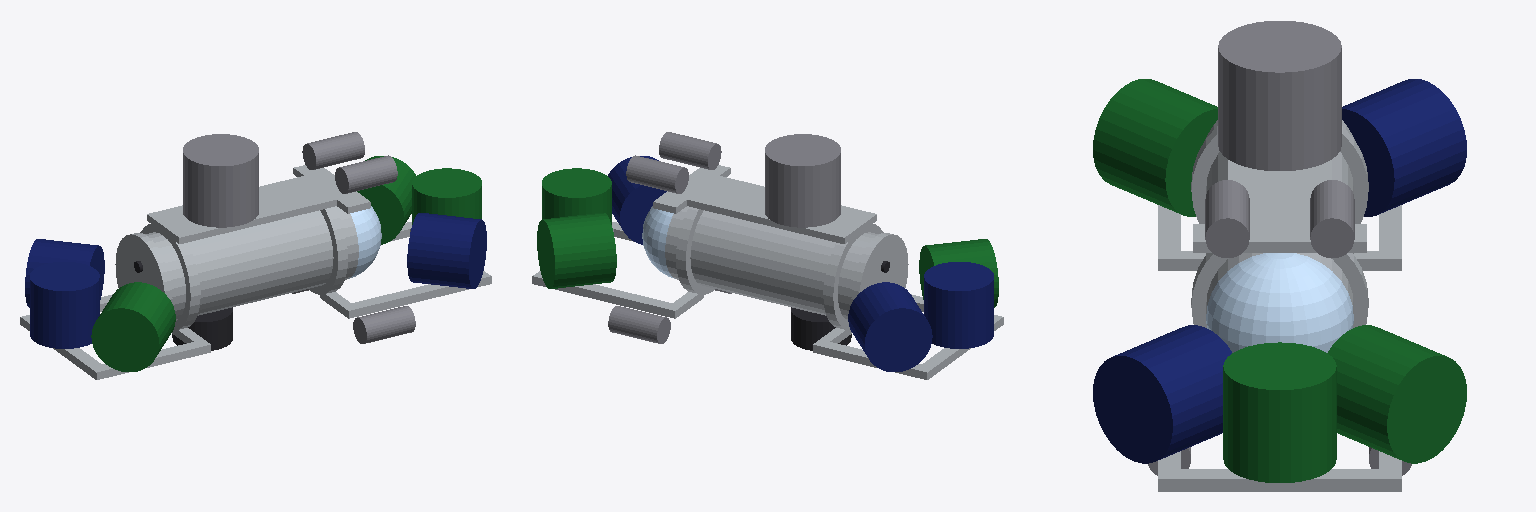
URDF robot description (hauv):
<?xml version="1.0"?>
<!--
  HAUV - LIGHTWEIGHT URDF for RViz2 on low-power hardware (Atom / UP Board).

  NO MESHES AT ALL. Every part is a URDF primitive (box / cylinder / sphere),
  so there are no STLs to load and roughly 3k triangles total instead of the
  2.03 M in hauv.urdf. Decimating the vendor meshes would not have got close -
  the T200 alone is 186k triangles before you copy it six times.

  Dimensions are the real CAD numbers, not eyeballed:
    tube      OD 127, 300 long          dome      R 63.5 hemisphere
    T200      OD 97.3, 88 long          Lumen     OD 38, 78 long
    Subsonus  OD 106, 93.4 tall         DVL head  OD 83.7, 44.3 tall
  So it is dimensionally honest for reach/clearance checks - it just has no
  surface detail.

  LINK AND JOINT NAMES ARE IDENTICAL to hauv.urdf, so this is a drop-in swap:
  the same motor_to_joint_states.py and the same TF consumers work unchanged.

  Frame: X forward, Y port, Z up, origin on the tube axis, centred fore-aft.
  Everything here is in METRES - there is no mesh scale factor to get wrong.

  One improvement over the mesh version: because the geometry is generated
  rather than imported, each thruster joint sits exactly on its duct centre.
  The mesh URDF is up to 4.25 mm off there (it was placed by bounding-box
  centre, and Fusion's box is conservative for rotated bodies).
-->
<robot name="hauv">

  <material name="alu">      <color rgba="0.72 0.74 0.76 1.0"/></material>
  <material name="acrylic">  <color rgba="0.80 0.90 1.00 0.35"/></material>
  <material name="cw_green"> <color rgba="0.13 0.45 0.20 1.0"/></material>
  <material name="ccw_blue"> <color rgba="0.13 0.18 0.45 1.0"/></material>
  <material name="lightblue"><color rgba="0.45 0.70 0.90 1.0"/></material>
  <material name="pcb_green"><color rgba="0.10 0.35 0.15 1.0"/></material>
  <material name="dark">     <color rgba="0.20 0.20 0.22 1.0"/></material>
  <material name="grey">     <color rgba="0.55 0.55 0.58 1.0"/></material>

  <link name="base_link">

    <!-- pressure tube: OD 127, X -172.6 .. 127.4 -->
    <visual><origin xyz="-0.0226 0 0" rpy="0 1.5707963 0"/>
      <geometry><cylinder radius="0.0635" length="0.300"/></geometry>
      <material name="alu"/></visual>

    <!-- aft cap flange OD 137, and the Bar30 boss hanging below it -->
    <visual><origin xyz="-0.1786 0 0" rpy="0 1.5707963 0"/>
      <geometry><cylinder radius="0.0685" length="0.012"/></geometry>
      <material name="alu"/></visual>
    <visual><origin xyz="-0.1795 0 -0.075" rpy="0 0 0"/>
      <geometry><box size="0.013 0.026 0.040"/></geometry>
      <material name="alu"/></visual>

    <!-- forward dome, R 63.5 at X 127.4 (aft half is hidden inside the tube) -->
    <visual><origin xyz="0.1274 0 0" rpy="0 0 0"/>
      <geometry><sphere radius="0.0635"/></geometry>
      <material name="acrylic"/></visual>

    <!-- thruster mounts: collars, rails, cross-pieces, stubs, spine -->
    <visual><origin xyz="0.095 0 0" rpy="0 1.5707963 0"/>
      <geometry><cylinder radius="0.076" length="0.016"/></geometry>
      <material name="alu"/></visual>
    <visual><origin xyz="-0.140 0 0" rpy="0 1.5707963 0"/>
      <geometry><cylinder radius="0.076" length="0.016"/></geometry>
      <material name="alu"/></visual>

    <visual><origin xyz="0.205 0.095 -0.070" rpy="0 0 0"/>
      <geometry><box size="0.220 0.020 0.012"/></geometry><material name="alu"/></visual>
    <visual><origin xyz="0.205 -0.095 -0.070" rpy="0 0 0"/>
      <geometry><box size="0.220 0.020 0.012"/></geometry><material name="alu"/></visual>
    <visual><origin xyz="-0.2275 0.095 -0.070" rpy="0 0 0"/>
      <geometry><box size="0.175 0.020 0.012"/></geometry><material name="alu"/></visual>
    <visual><origin xyz="-0.2275 -0.095 -0.070" rpy="0 0 0"/>
      <geometry><box size="0.175 0.020 0.012"/></geometry><material name="alu"/></visual>

    <visual><origin xyz="0.305 0 -0.070" rpy="0 0 0"/>
      <geometry><box size="0.020 0.210 0.012"/></geometry><material name="alu"/></visual>
    <visual><origin xyz="-0.305 0 -0.070" rpy="0 0 0"/>
      <geometry><box size="0.020 0.210 0.012"/></geometry><material name="alu"/></visual>

    <visual><origin xyz="0.095 0.065 -0.070" rpy="0 0 0"/>
      <geometry><box size="0.016 0.080 0.012"/></geometry><material name="alu"/></visual>
    <visual><origin xyz="0.095 -0.065 -0.070" rpy="0 0 0"/>
      <geometry><box size="0.016 0.080 0.012"/></geometry><material name="alu"/></visual>
    <visual><origin xyz="-0.140 0.065 -0.070" rpy="0 0 0"/>
      <geometry><box size="0.016 0.080 0.012"/></geometry><material name="alu"/></visual>
    <visual><origin xyz="-0.140 -0.065 -0.070" rpy="0 0 0"/>
      <geometry><box size="0.016 0.080 0.012"/></geometry><material name="alu"/></visual>

    <!-- spine (carries the Subsonus) + forward shelf (carries the upper lights) -->
    <visual><origin xyz="-0.0225 0 0.073" rpy="0 0 0"/>
      <geometry><box size="0.251 0.090 0.010"/></geometry><material name="alu"/></visual>
    <visual><origin xyz="0.1215 0 0.073" rpy="0 0 0"/>
      <geometry><box size="0.037 0.150 0.010"/></geometry><material name="alu"/></visual>

    <!-- internals -->
    <visual><origin xyz="-0.0236 0 -0.032" rpy="0 0 0"/>
      <geometry><box size="0.244 0.090 0.004"/></geometry><material name="alu"/></visual>
    <visual><origin xyz="-0.0919 0 -0.0020" rpy="0 0 0"/>
      <geometry><box size="0.1163 0.0858 0.0561"/></geometry><material name="dark"/></visual>
    <visual><origin xyz="0.0125 0 0.0008" rpy="0 0 0"/>
      <geometry><box size="0.085 0.056 0.018"/></geometry><material name="pcb_green"/></visual>
    <visual><origin xyz="0.077 0 0.0193" rpy="0 0 0"/>
      <geometry><box size="0.052 0.028 0.0146"/></geometry><material name="pcb_green"/></visual>
    <visual><origin xyz="-0.050 0 0.0365" rpy="0 0 0"/>
      <geometry><box size="0.180 0.065 0.020"/></geometry><material name="lightblue"/></visual>
    <visual><origin xyz="0.0359 0 -0.019" rpy="0 0 0"/>
      <geometry><box size="0.135 0.065 0.020"/></geometry><material name="lightblue"/></visual>

    <!-- DVL transducer, external, looking down -->
    <visual><origin xyz="-0.085 0 -0.08615" rpy="0 0 0"/>
      <geometry><cylinder radius="0.04185" length="0.0443"/></geometry>
      <material name="dark"/></visual>

    <collision><origin xyz="-0.0226 0 0" rpy="0 1.5707963 0"/>
      <geometry><cylinder radius="0.0635" length="0.300"/></geometry></collision>

    <inertial>
      <origin xyz="-0.02 0 -0.01" rpy="0 0 0"/>
      <mass value="5.531"/>
      <inertia ixx="0.045" ixy="0" ixz="0" iyy="0.180" iyz="0" izz="0.180"/>
    </inertial>
  </link>

  <!-- ===== thrusters: OD 97.3 x 88 duct, continuous about local +X ======
       Cylinder is modelled along the link's local Z and the joint rpy turns
       local Z onto the thrust axis, so the spin axis stays 0 0 1 here.       -->

  <link name="t1_front_left">
    <visual><origin xyz="0 0 0" rpy="0 0 0"/>
      <geometry><cylinder radius="0.04865" length="0.088"/></geometry>
      <material name="cw_green"/></visual>
  </link>
  <joint name="t1_front_left_joint" type="continuous">
    <parent link="base_link"/><child link="t1_front_left"/>
    <origin xyz="0.250 0.095 -0.0144" rpy="0 1.5707963 0.7853982"/>
    <axis xyz="0 0 1"/>
  </joint>

  <link name="t2_front_right">
    <visual><origin xyz="0 0 0" rpy="0 0 0"/>
      <geometry><cylinder radius="0.04865" length="0.088"/></geometry>
      <material name="ccw_blue"/></visual>
  </link>
  <joint name="t2_front_right_joint" type="continuous">
    <parent link="base_link"/><child link="t2_front_right"/>
    <origin xyz="0.250 -0.095 -0.0144" rpy="0 1.5707963 -0.7853982"/>
    <axis xyz="0 0 1"/>
  </joint>

  <link name="t3_rear_left">
    <visual><origin xyz="0 0 0" rpy="0 0 0"/>
      <geometry><cylinder radius="0.04865" length="0.088"/></geometry>
      <material name="ccw_blue"/></visual>
  </link>
  <joint name="t3_rear_left_joint" type="continuous">
    <parent link="base_link"/><child link="t3_rear_left"/>
    <origin xyz="-0.250 0.095 -0.0144" rpy="0 1.5707963 -0.7853982"/>
    <axis xyz="0 0 1"/>
  </joint>

  <link name="t4_rear_right">
    <visual><origin xyz="0 0 0" rpy="0 0 0"/>
      <geometry><cylinder radius="0.04865" length="0.088"/></geometry>
      <material name="cw_green"/></visual>
  </link>
  <joint name="t4_rear_right_joint" type="continuous">
    <parent link="base_link"/><child link="t4_rear_right"/>
    <origin xyz="-0.250 -0.095 -0.0144" rpy="0 1.5707963 0.7853982"/>
    <axis xyz="0 0 1"/>
  </joint>

  <link name="t5_vert_front">
    <visual><origin xyz="0 0 0" rpy="0 0 0"/>
      <geometry><cylinder radius="0.04865" length="0.088"/></geometry>
      <material name="cw_green"/></visual>
  </link>
  <joint name="t5_vert_front_joint" type="continuous">
    <parent link="base_link"/><child link="t5_vert_front"/>
    <origin xyz="0.305 0 -0.0063" rpy="0 0 0"/>
    <axis xyz="0 0 1"/>
  </joint>

  <link name="t6_vert_rear">
    <visual><origin xyz="0 0 0" rpy="0 0 0"/>
      <geometry><cylinder radius="0.04865" length="0.088"/></geometry>
      <material name="ccw_blue"/></visual>
  </link>
  <joint name="t6_vert_rear_joint" type="continuous">
    <parent link="base_link"/><child link="t6_vert_rear"/>
    <origin xyz="-0.305 0 -0.0063" rpy="0 0 0"/>
    <axis xyz="0 0 1"/>
  </joint>

  <!-- ===== lights: OD 38 x 78, lens forward ===== -->

  <link name="light_lower_left">
    <visual><origin xyz="0 0 0" rpy="0 0 0"/>
      <geometry><cylinder radius="0.019" length="0.078"/></geometry>
      <material name="grey"/></visual>
  </link>
  <joint name="light_lower_left_joint" type="fixed">
    <parent link="base_link"/><child link="light_lower_left"/>
    <origin xyz="0.150 0.095 -0.104" rpy="0 1.5707963 0"/>
  </joint>

  <link name="light_lower_right">
    <visual><origin xyz="0 0 0" rpy="0 0 0"/>
      <geometry><cylinder radius="0.019" length="0.078"/></geometry>
      <material name="grey"/></visual>
  </link>
  <joint name="light_lower_right_joint" type="fixed">
    <parent link="base_link"/><child link="light_lower_right"/>
    <origin xyz="0.150 -0.095 -0.104" rpy="0 1.5707963 0"/>
  </joint>

  <link name="light_upper_left">
    <visual><origin xyz="0 0 0" rpy="0 0 0"/>
      <geometry><cylinder radius="0.019" length="0.078"/></geometry>
      <material name="grey"/></visual>
  </link>
  <joint name="light_upper_left_joint" type="fixed">
    <parent link="base_link"/><child link="light_upper_left"/>
    <origin xyz="0.150 0.045 0.1047" rpy="0 1.5707963 0"/>
  </joint>

  <link name="light_upper_right">
    <visual><origin xyz="0 0 0" rpy="0 0 0"/>
      <geometry><cylinder radius="0.019" length="0.078"/></geometry>
      <material name="grey"/></visual>
  </link>
  <joint name="light_upper_right_joint" type="fixed">
    <parent link="base_link"/><child link="light_upper_right"/>
    <origin xyz="0.150 -0.045 0.1047" rpy="0 1.5707963 0"/>
  </joint>

  <!-- ===== sensors ===== -->

  <link name="subsonus">
    <visual><origin xyz="0 0 0" rpy="0 0 0"/>
      <geometry><cylinder radius="0.053" length="0.0934"/></geometry>
      <material name="grey"/></visual>
  </link>
  <joint name="subsonus_joint" type="fixed">
    <parent link="base_link"/><child link="subsonus"/>
    <origin xyz="-0.0558 0 0.1253" rpy="0 0 0"/>
  </joint>

  <link name="bar30">
    <visual><origin xyz="0 0 0" rpy="0 0 0"/>
      <geometry><cylinder radius="0.008" length="0.032"/></geometry>
      <material name="dark"/></visual>
  </link>
  <joint name="bar30_joint" type="fixed">
    <parent link="base_link"/><child link="bar30"/>
    <origin xyz="-0.1785 0 -0.091" rpy="0 0 0"/>
  </joint>

  <link name="indicator">
    <visual><origin xyz="0 0 0" rpy="0 0 0"/>
      <geometry><cylinder radius="0.008" length="0.0362"/></geometry>
      <material name="dark"/></visual>
  </link>
  <joint name="indicator_joint" type="fixed">
    <parent link="base_link"/><child link="indicator"/>
    <origin xyz="-0.1719 0 0.025" rpy="0 1.5707963 0"/>
  </joint>

  <!-- ===== reference frames ===== -->

  <link name="camera_link"/>
  <joint name="camera_joint" type="fixed">
    <parent link="base_link"/><child link="camera_link"/>
    <origin xyz="0.1274 0 0" rpy="0 0 0"/>
  </joint>

  <link name="dvl_link"/>
  <joint name="dvl_joint" type="fixed">
    <parent link="base_link"/><child link="dvl_link"/>
    <origin xyz="-0.0850 0 -0.1083" rpy="0 0 0"/>
  </joint>

</robot>

--- Facts derived from the render (not from the file) ---
Views: 3 orthographic renders of the robot side by side, from view 1: azimuth 30°, elevation 25°; view 2: azimuth 150°, elevation 25°; view 3: azimuth 270°, elevation 25°.
Model hauv with 16 links and 15 joints (6 continuous, 9 fixed), rooted at base_link, posed every joint at zero.
Visible links, largest first — view 1: base_link, subsonus, t4_rear_right, t6_vert_rear, t2_front_right, t5_vert_front, t1_front_left, t3_rear_left, light_upper_right, light_lower_right, light_upper_left; view 2: base_link, subsonus, t3_rear_left, t6_vert_rear, t1_front_left, t5_vert_front, t2_front_right, t4_rear_right, light_upper_left, light_lower_left, light_upper_right; view 3: base_link, subsonus, t5_vert_front, t1_front_left, t2_front_right, t3_rear_left, t4_rear_right, light_upper_left, light_upper_right.
Link boxes in pixels (box(x1,y1,x2,y2)): base_link: box(20, 165, 491, 379); subsonus: box(183, 134, 258, 227); t4_rear_right: box(91, 282, 175, 371); t6_vert_rear: box(30, 262, 99, 348); t2_front_right: box(407, 213, 486, 288); t5_vert_front: box(412, 168, 481, 224); t1_front_left: box(357, 156, 415, 244); t3_rear_left: box(25, 239, 104, 307); light_upper_right: box(335, 155, 397, 193); light_lower_right: box(353, 306, 415, 343); light_upper_left: box(302, 132, 364, 169); base_link: box(532, 165, 1003, 379); subsonus: box(765, 134, 840, 227); t3_rear_left: box(848, 282, 932, 371); t6_vert_rear: box(924, 262, 993, 348); t1_front_left: box(537, 213, 616, 288); t5_vert_front: box(542, 168, 611, 224); t2_front_right: box(608, 156, 666, 244); t4_rear_right: box(919, 239, 998, 307); light_upper_left: box(626, 155, 688, 193); light_lower_left: box(608, 306, 670, 343); light_upper_right: box(659, 132, 721, 169); base_link: box(1158, 120, 1401, 491); subsonus: box(1218, 21, 1341, 170); t5_vert_front: box(1223, 342, 1336, 482); t1_front_left: box(1328, 325, 1466, 463); t2_front_right: box(1093, 325, 1231, 463); t3_rear_left: box(1342, 79, 1466, 216); t4_rear_right: box(1093, 79, 1217, 216); light_upper_left: box(1310, 180, 1354, 257); light_upper_right: box(1205, 180, 1249, 257).
Size in the robot's own frame: 0.7073 by 0.321 by 0.295 metres.
Geometry: primitives only (box / cylinder / sphere), no mesh files.
